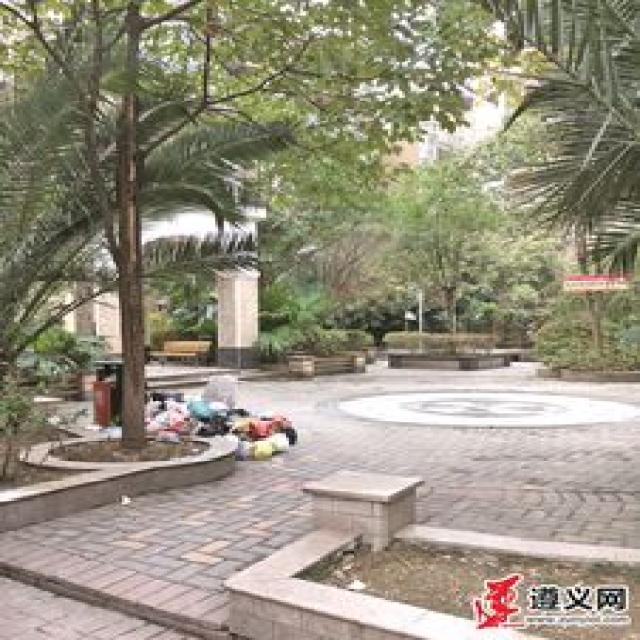garbage: (138, 373, 294, 458)
